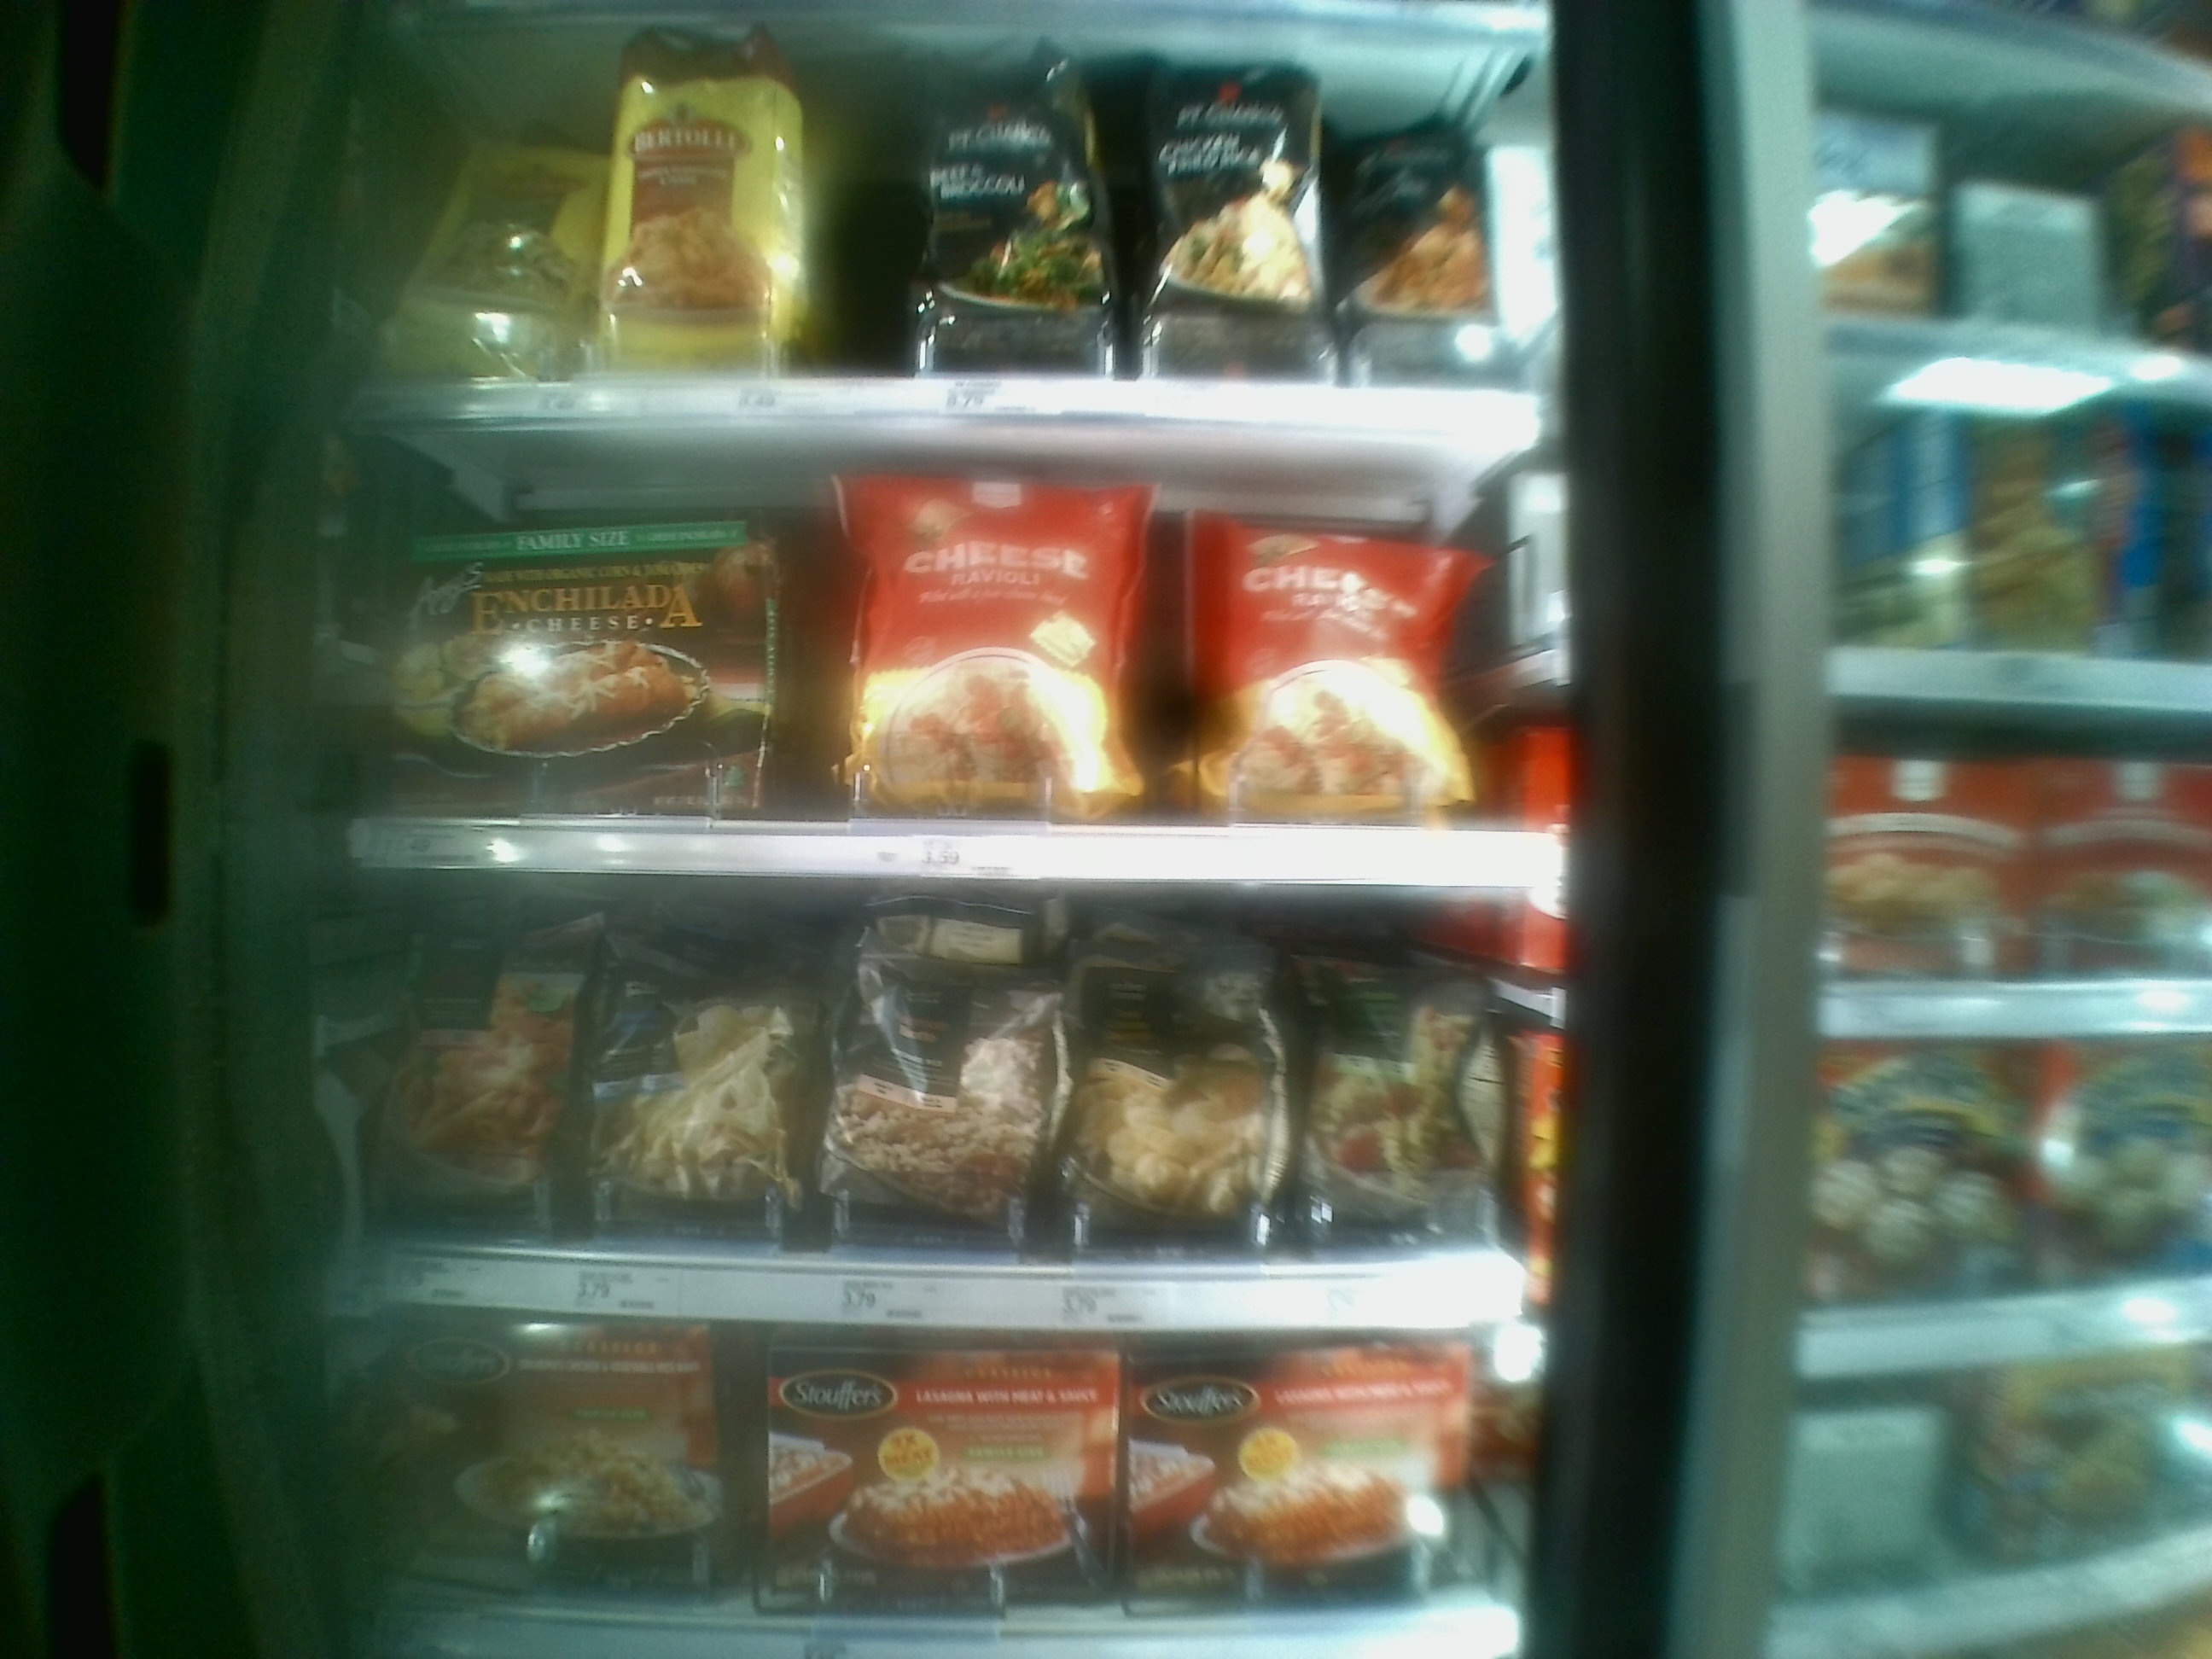shelf: (359, 415, 1543, 882), (359, 868, 1526, 1324)
